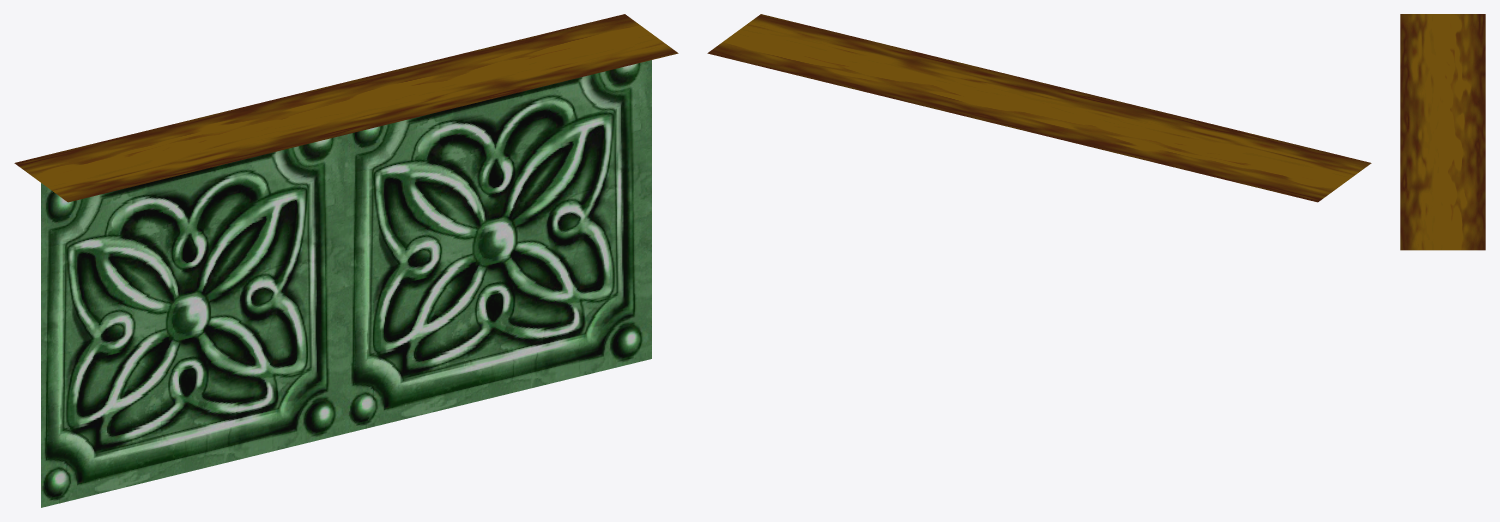
The model's file is Geländer0.5 [ArtDeko]_160.glb.
3 views of the same model, side by side, from view 1: azimuth 30°, elevation 25°; view 2: azimuth 150°, elevation 25°; view 3: azimuth 270°, elevation 25° (orthographic). The views are drawn at different scales.
Parts seen in each view (by area): view 1: pPlaneShape229, pPlaneShape230; view 2: pPlaneShape230; view 3: pPlaneShape230.
Part boxes in pixels (left/top/right/bottom): pPlaneShape229: left=41, top=60, right=651, bottom=507; pPlaneShape230: left=14, top=14, right=678, bottom=202; pPlaneShape230: left=707, top=14, right=1371, bottom=202; pPlaneShape230: left=1400, top=14, right=1485, bottom=250.
Size of the model in its own units: 0.1592 by 0.081 by 0.0243.
Materials: 2 (2 with a texture image).
